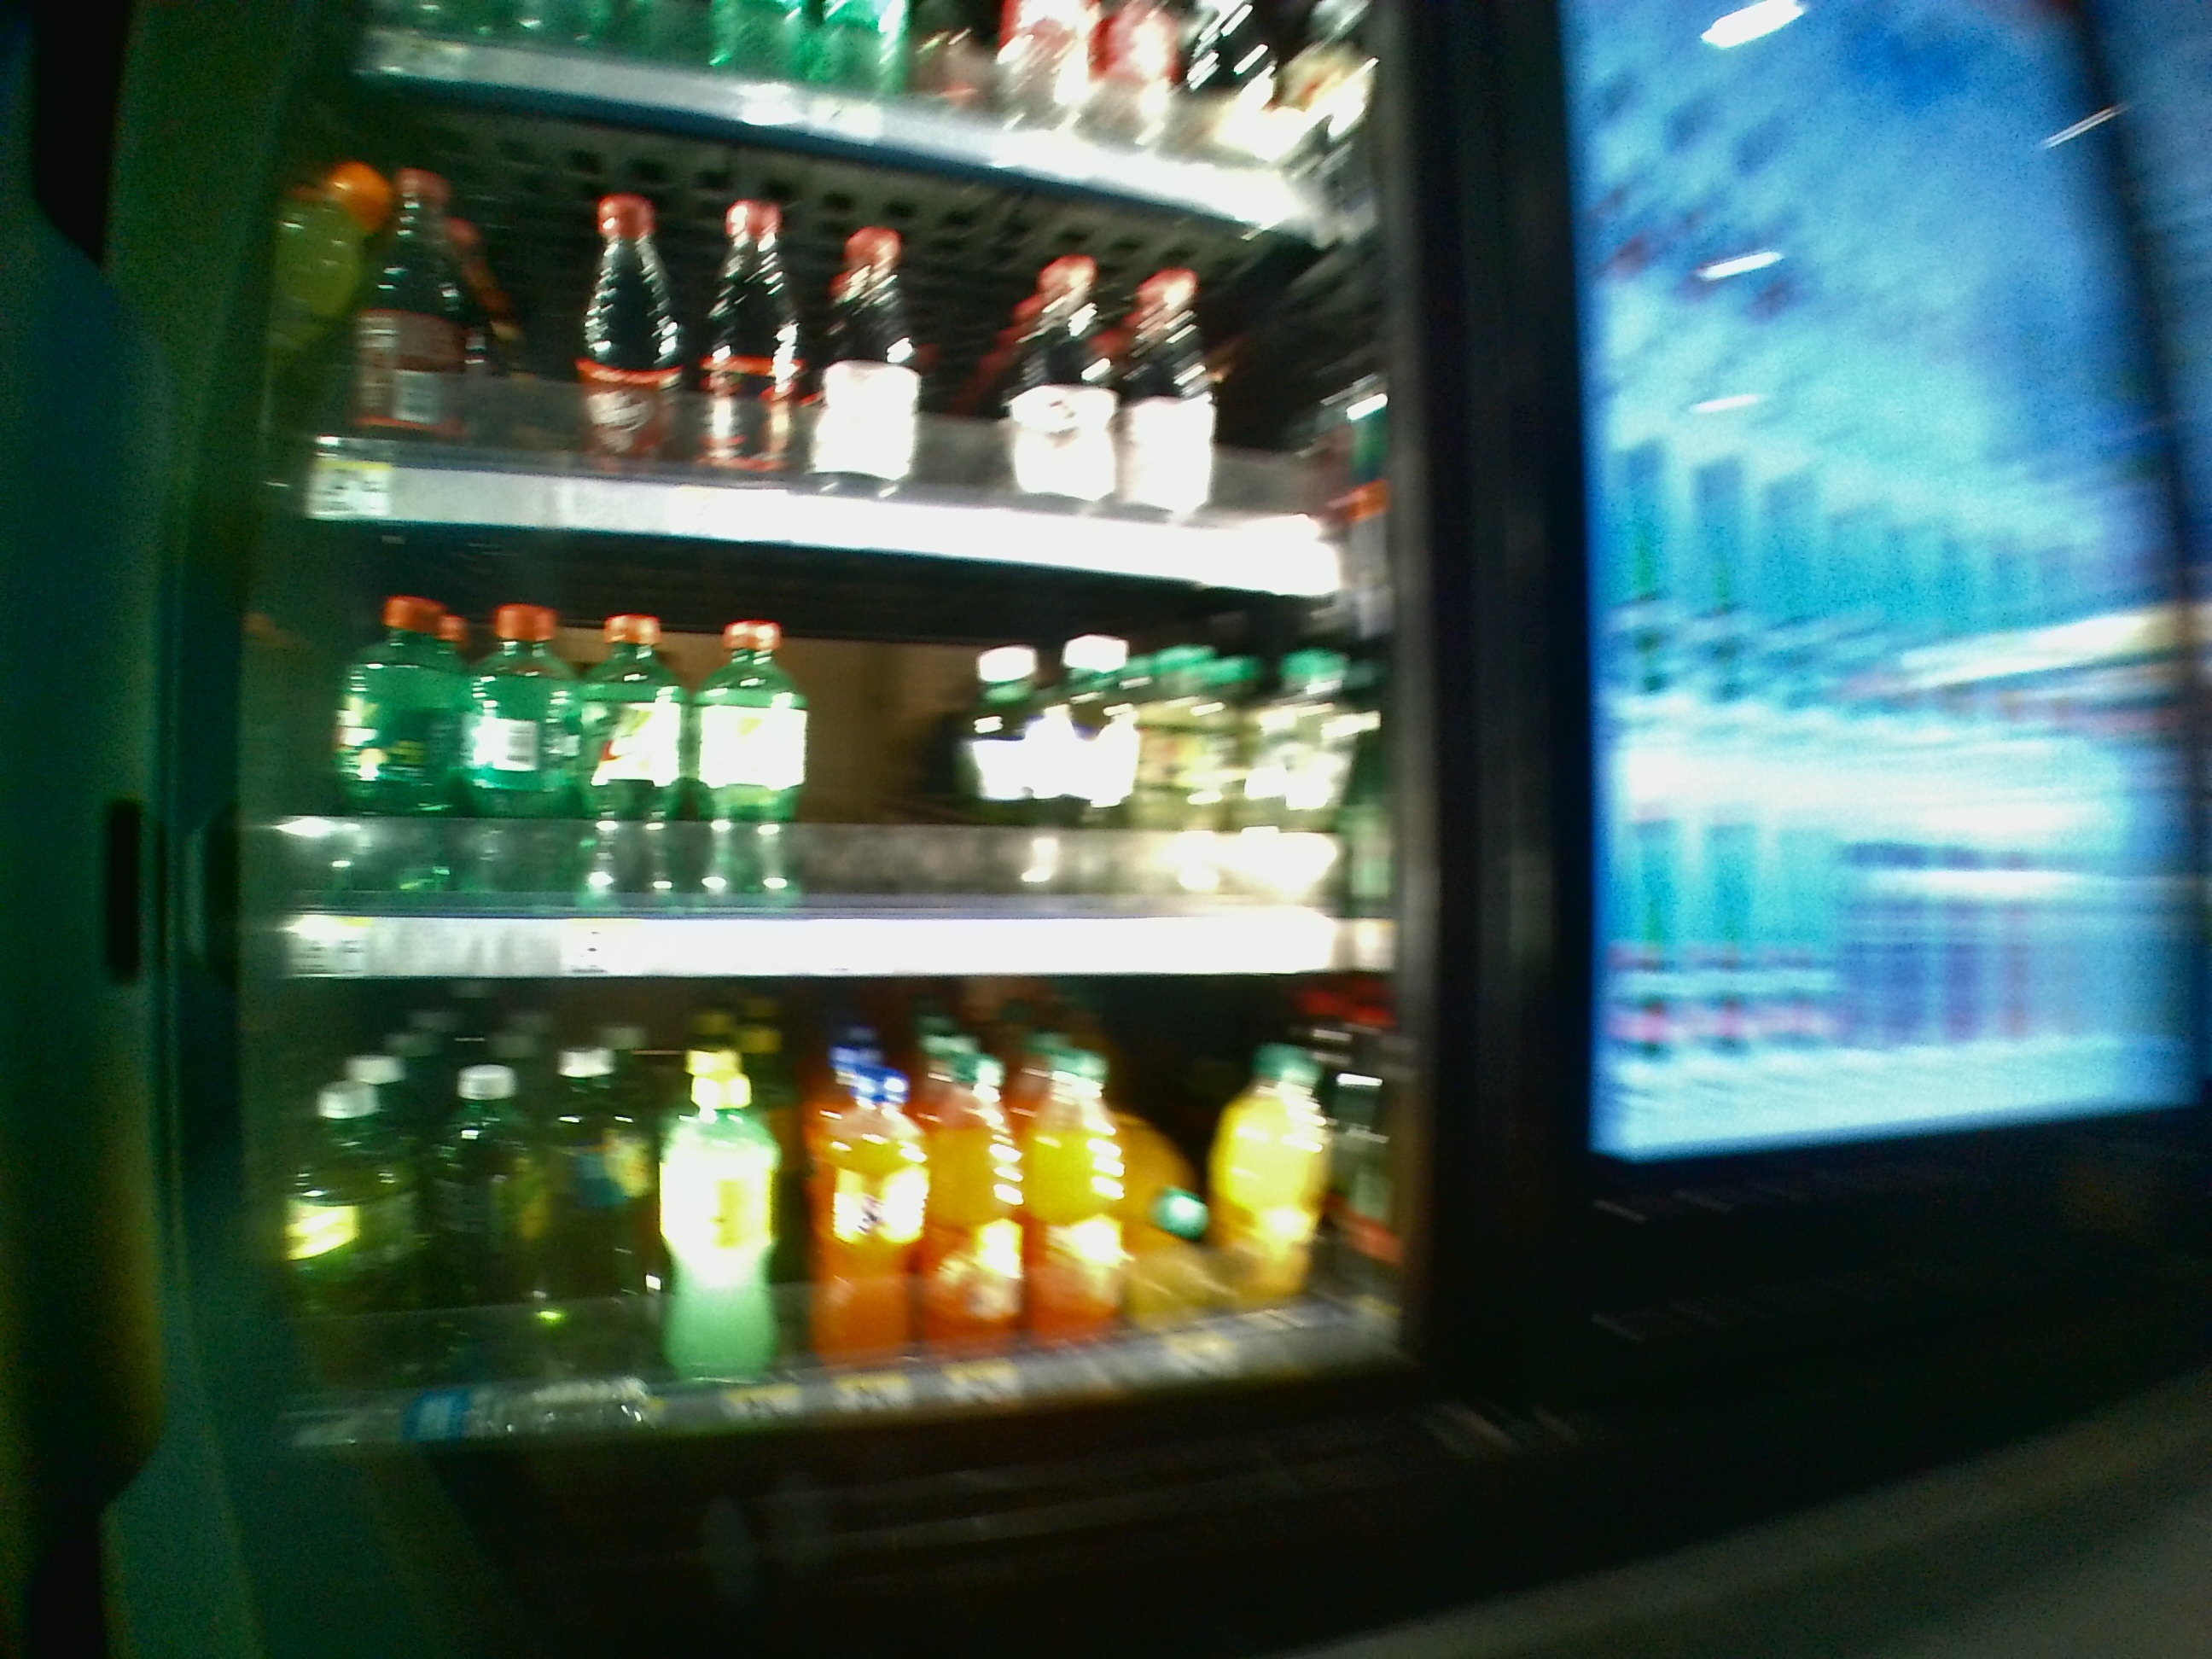shelf: (270, 526, 1406, 969), (273, 990, 1406, 1424)
